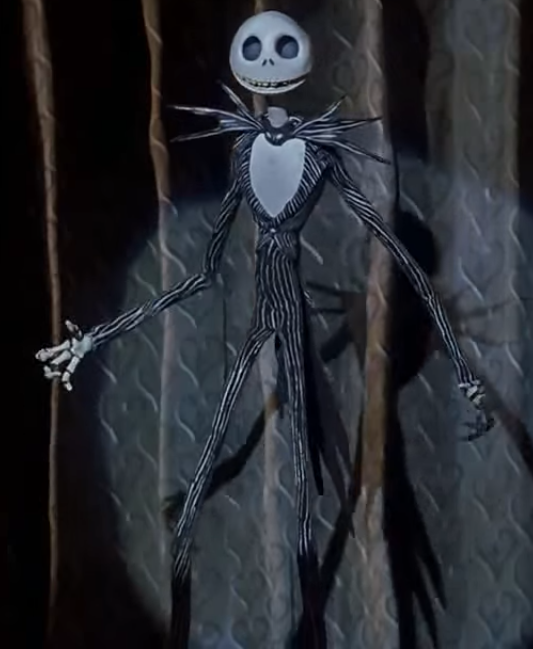Jack Skellington: (34, 10, 501, 649)
